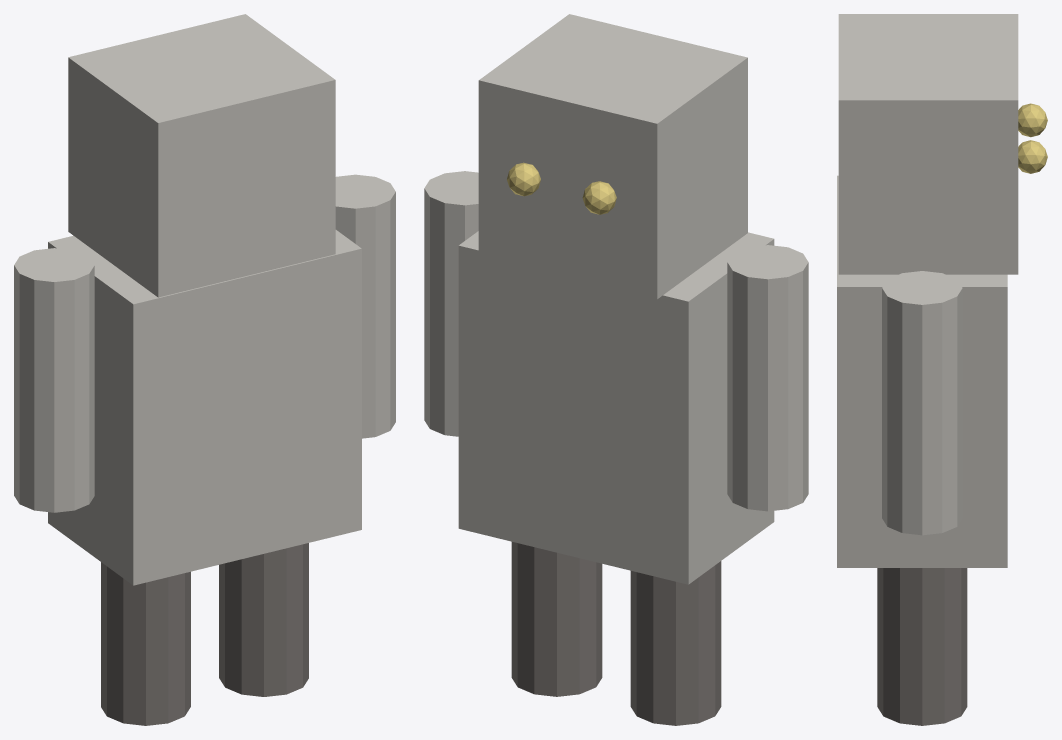
Rendered from skeleton.glb.
3 renders of one model, left to right at view 1: azimuth 30°, elevation 25°; view 2: azimuth 150°, elevation 25°; view 3: azimuth 270°, elevation 25°, orthographic.
Parts seen in each view (by area): view 1: Body, Head, ArmL, LegL, LegR, ArmR; view 2: Body, Head, ArmL, LegL, LegR, ArmR, EyeL, EyeR; view 3: Head, Body, ArmR, LegR, EyeL, EyeR.
Boxes of the visible parts, x1,y1,x2,y2 form: Body: [48, 230, 361, 585]; Head: [68, 14, 335, 297]; ArmL: [14, 248, 94, 512]; LegL: [101, 562, 190, 725]; LegR: [219, 543, 308, 696]; ArmR: [335, 174, 395, 438]; Body: [458, 231, 774, 584]; Head: [478, 14, 747, 299]; ArmL: [727, 245, 808, 511]; LegL: [630, 561, 721, 725]; LegR: [511, 542, 602, 696]; ArmR: [424, 171, 478, 436]; EyeL: [582, 181, 616, 214]; EyeR: [507, 162, 540, 196]; Head: [838, 14, 1018, 274]; Body: [837, 175, 1007, 567]; ArmR: [882, 271, 962, 535]; LegR: [877, 568, 967, 725]; EyeL: [1018, 103, 1047, 137]; EyeR: [1018, 140, 1047, 173].
Size of the model in its own units: 1.38 by 2.21 by 0.68.
